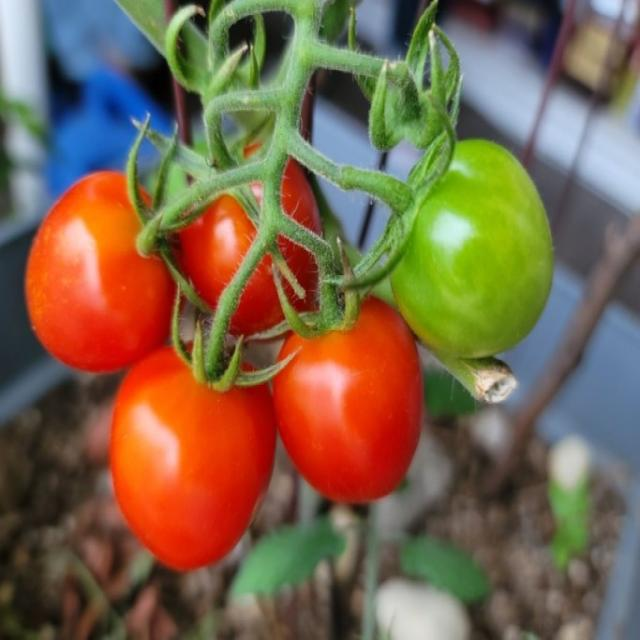level 1: (366, 125, 570, 372), (21, 154, 184, 379)
level 5: (94, 325, 282, 610)
level 6: (262, 278, 431, 520), (172, 134, 334, 338)
